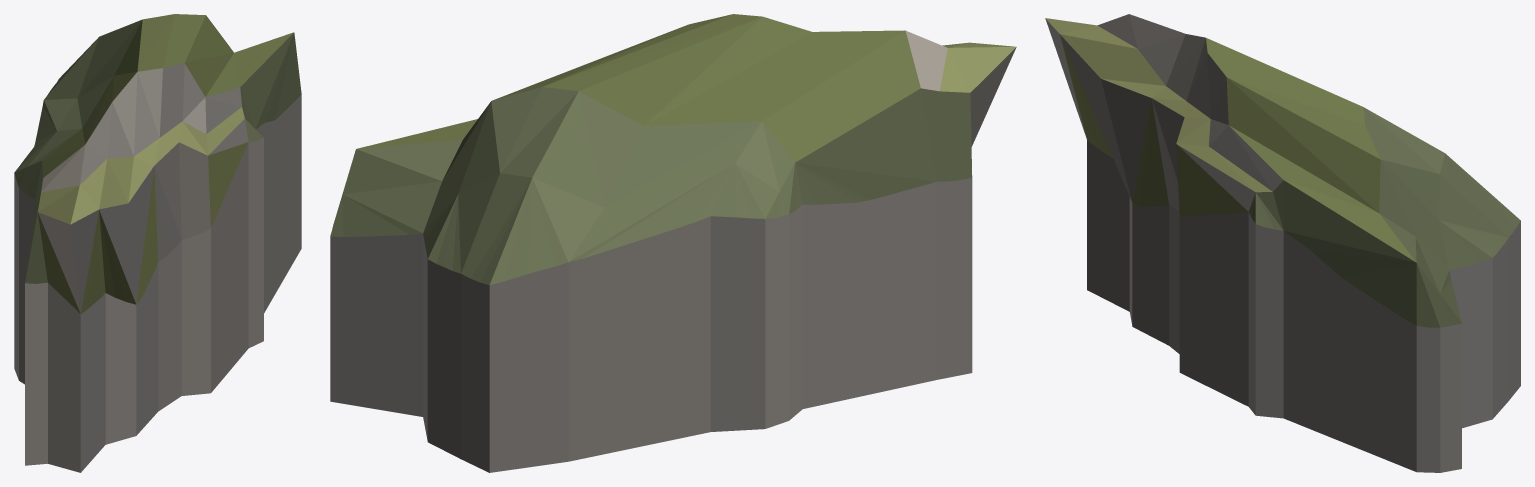
Rendered from cliff_crown.glb.
3 views of the same model, side by side, from view 1: azimuth 30°, elevation 25°; view 2: azimuth 150°, elevation 25°; view 3: azimuth 270°, elevation 25° (orthographic). The views are drawn at different scales.
Parts seen in each view (by area): view 1: cliff_crown; view 2: cliff_crown; view 3: cliff_crown.
Part boxes in pixels (<box>): cliff_crown: <box>14,14,301,472</box>; cliff_crown: <box>330,14,1016,472</box>; cliff_crown: <box>1045,14,1520,472</box>.
Size of the model in its own units: 134 by 97 by 136.
